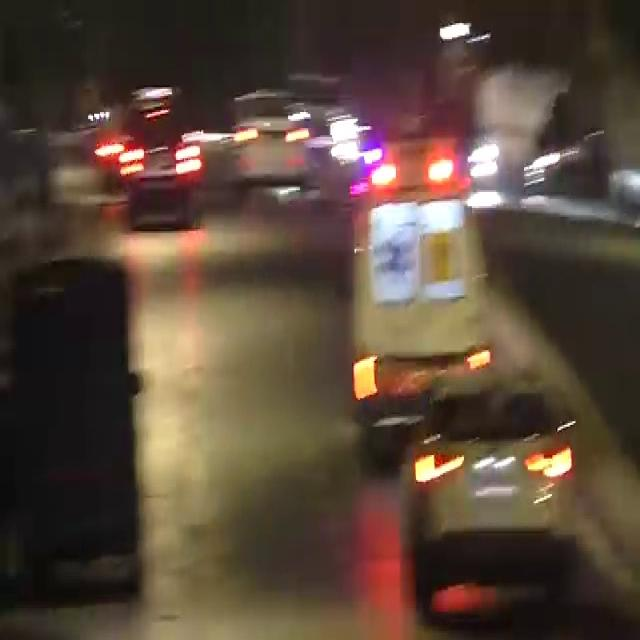ambulance: (351, 137, 552, 399)
